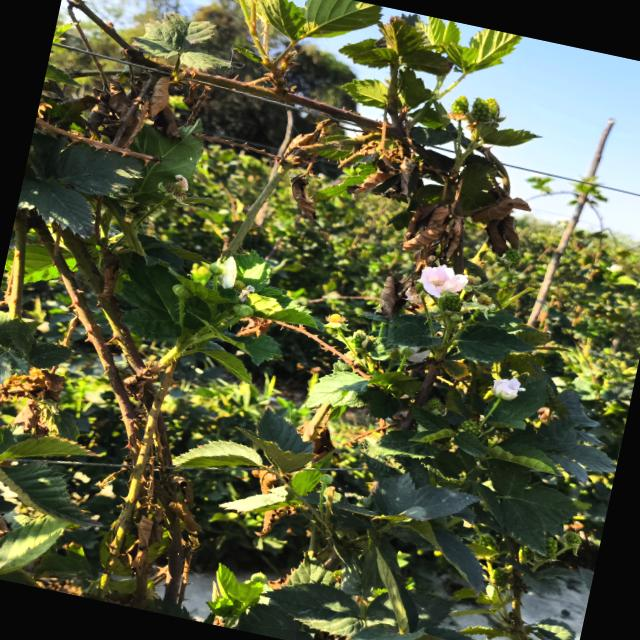boton: (172, 283, 194, 299), (231, 304, 253, 317), (209, 260, 224, 274)
flor: (419, 264, 467, 298), (492, 378, 525, 399)
